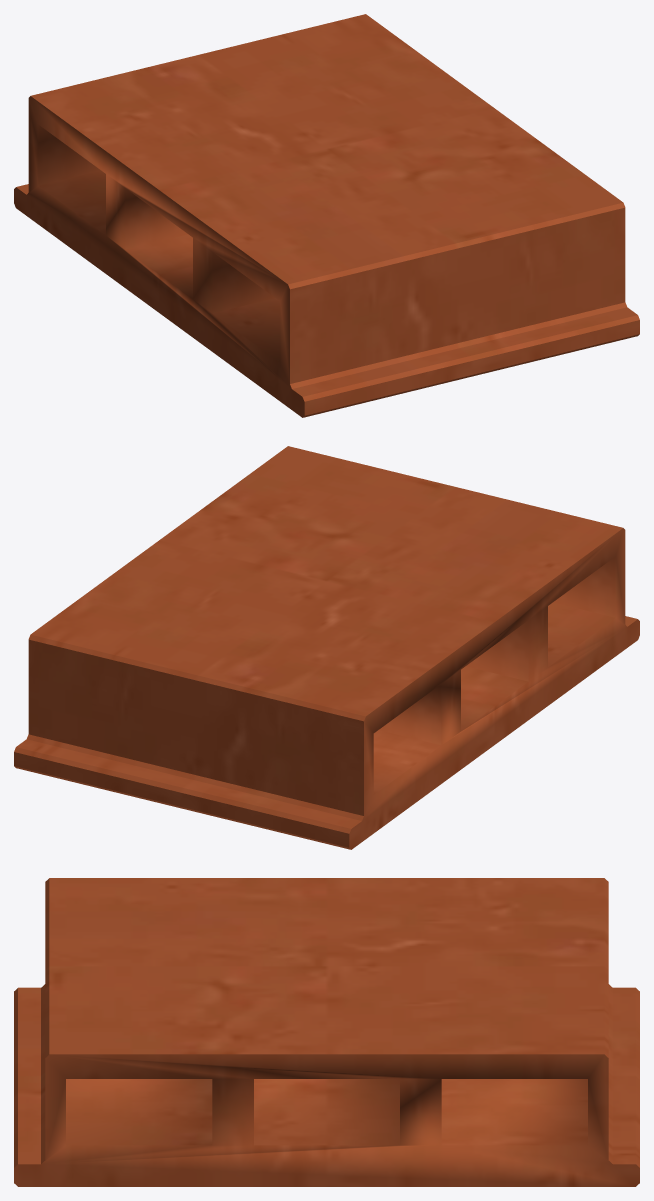
File: EST-LAJ-004_lod1.glb
3 views of the same model, one above another, from view 1: azimuth 30°, elevation 25°; view 2: azimuth 150°, elevation 25°; view 3: azimuth 270°, elevation 25° (orthographic). The views are drawn at different scales.
Parts seen in each view (by area): view 1: EST-LAJ-004_lajota; view 2: EST-LAJ-004_lajota; view 3: EST-LAJ-004_lajota.
Part boxes in pixels (x1,y1,x2,y2): EST-LAJ-004_lajota: [14, 14, 639, 417]; EST-LAJ-004_lajota: [14, 446, 639, 849]; EST-LAJ-004_lajota: [14, 878, 639, 1186].
Size of the model in its own units: 0.2 by 0.07 by 0.3.
Materials: 1 (1 with a texture image).
